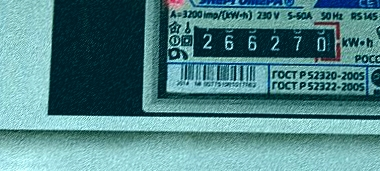0: (312, 34, 324, 51)
2: (197, 30, 210, 48), (266, 32, 277, 50)
6: (220, 31, 232, 49), (243, 33, 255, 51)
7: (289, 32, 300, 50)
screen: (180, 15, 344, 66)
